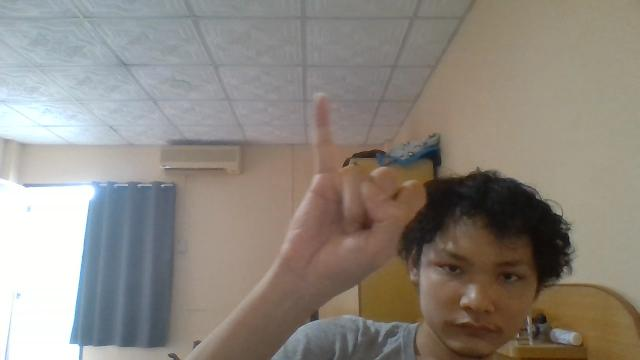Right: (283, 89, 427, 293)
